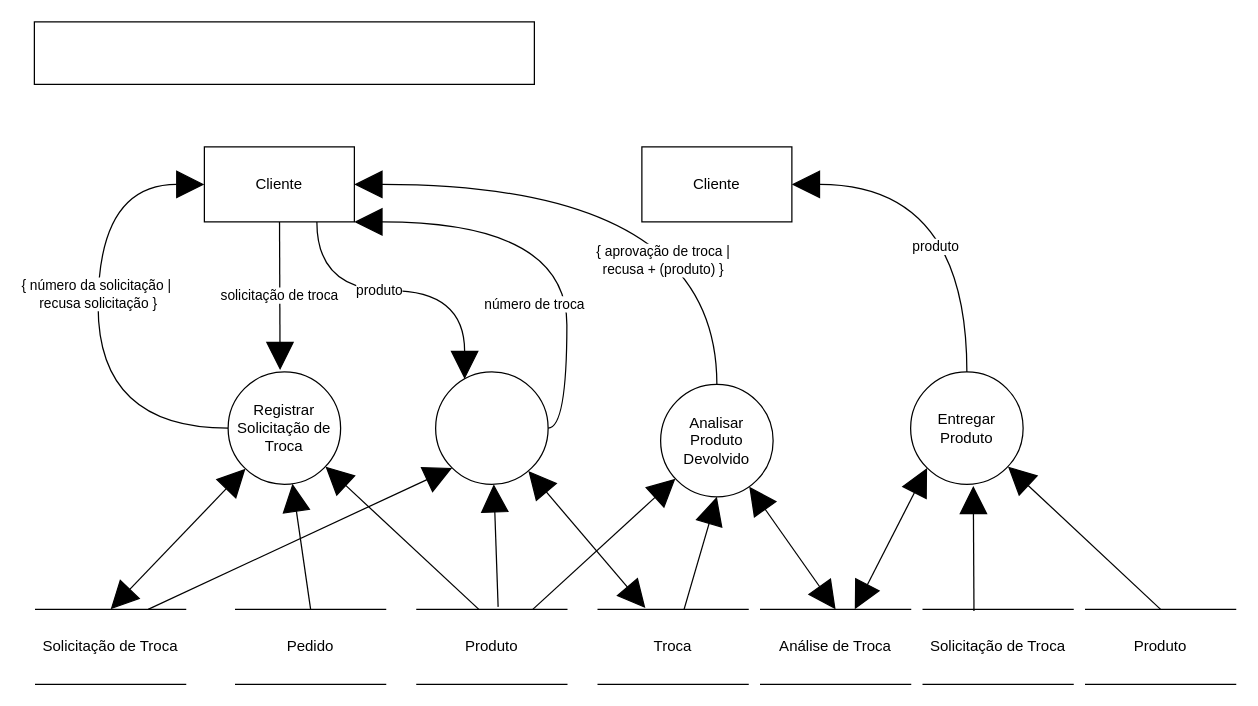
This 1258x706 diagram has some shape labels left out. The shapes that lost their labels are listed below. From the top down, each one's centre as x and y in pixels, then its label:
At pixel 283 52: "DFD - Tratar troca do pedido".
At pixel 491 427: "Receber Produto Devolvido".
